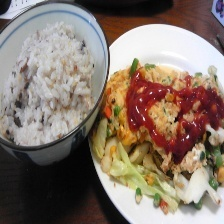rice: (0, 22, 95, 146)
